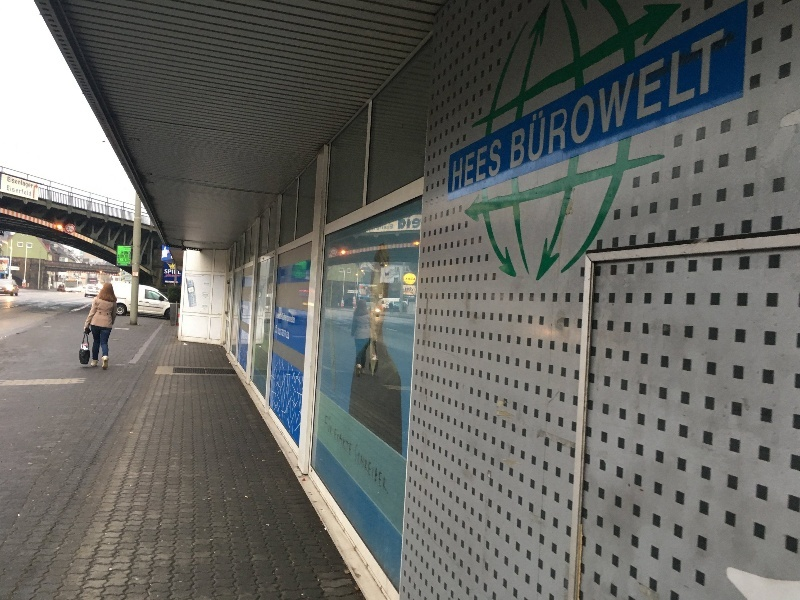text: (513, 24, 528, 172), (529, 24, 544, 172), (545, 24, 560, 172), (561, 24, 576, 172), (577, 24, 592, 172), (593, 24, 608, 172), (609, 24, 624, 172), (625, 24, 640, 172), (641, 24, 656, 172), (657, 24, 672, 172), (673, 24, 688, 172), (689, 24, 704, 172), (705, 24, 720, 172), (337, 413, 352, 499), (353, 413, 368, 499), (369, 413, 384, 499), (325, 413, 336, 499), (465, 134, 480, 194), (481, 134, 496, 194), (721, 24, 727, 172), (454, 134, 464, 194), (385, 413, 390, 499), (497, 134, 504, 194), (17, 176, 32, 190), (401, 218, 416, 231), (17, 185, 32, 197), (276, 311, 288, 325), (277, 327, 288, 341), (8, 176, 16, 190), (7, 185, 16, 197), (289, 311, 295, 325), (67, 227, 80, 233), (178, 270, 192, 275), (165, 269, 176, 275), (405, 287, 416, 292), (417, 218, 421, 231), (121, 251, 128, 256), (405, 278, 416, 281), (398, 218, 400, 231), (289, 327, 290, 341), (33, 176, 34, 190), (129, 251, 131, 256)
